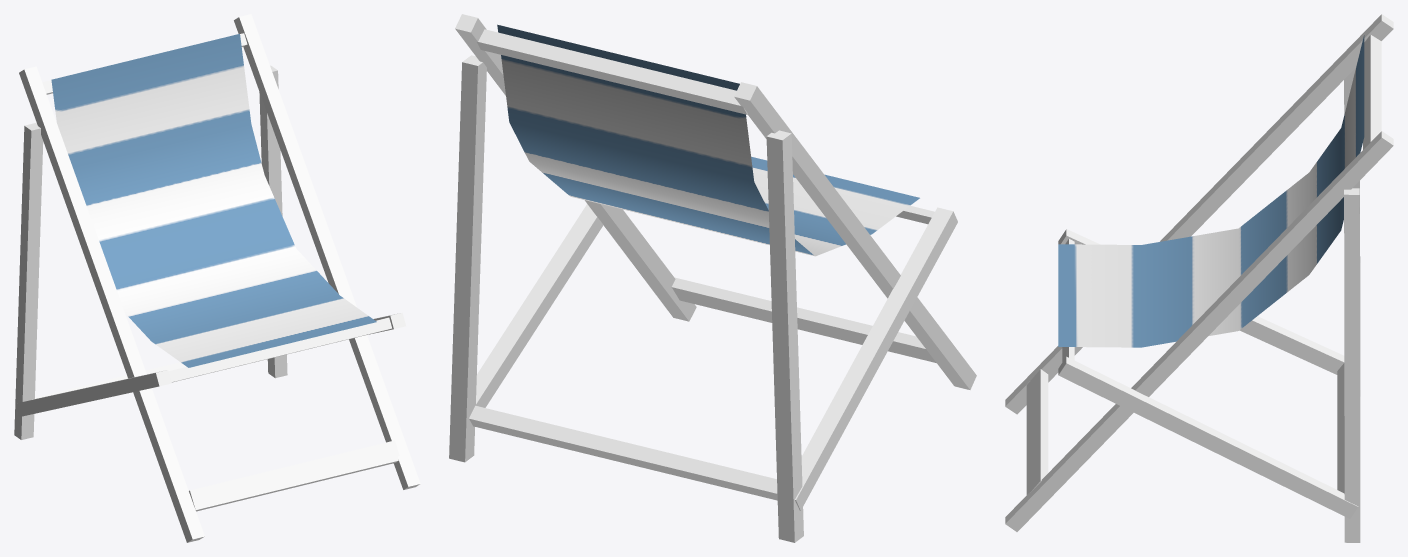
File: chair.fbx
The picture shows the model from 3 angles, left to right: view 1: azimuth 30°, elevation 25°; view 2: azimuth 150°, elevation 25°; view 3: azimuth 270°, elevation 25°; orthographic projection. The views are drawn at different scales.
Visible parts, largest first — view 1: chair; view 2: chair; view 3: chair.
Part boxes in pixels (box(x1,y1,x2,y2)): chair: box(14, 14, 420, 542); chair: box(449, 14, 976, 542); chair: box(1005, 14, 1393, 542).
Bounding box in the file's own units: 167 × 213 × 190.
Materials: 1 (1 with a texture image).
